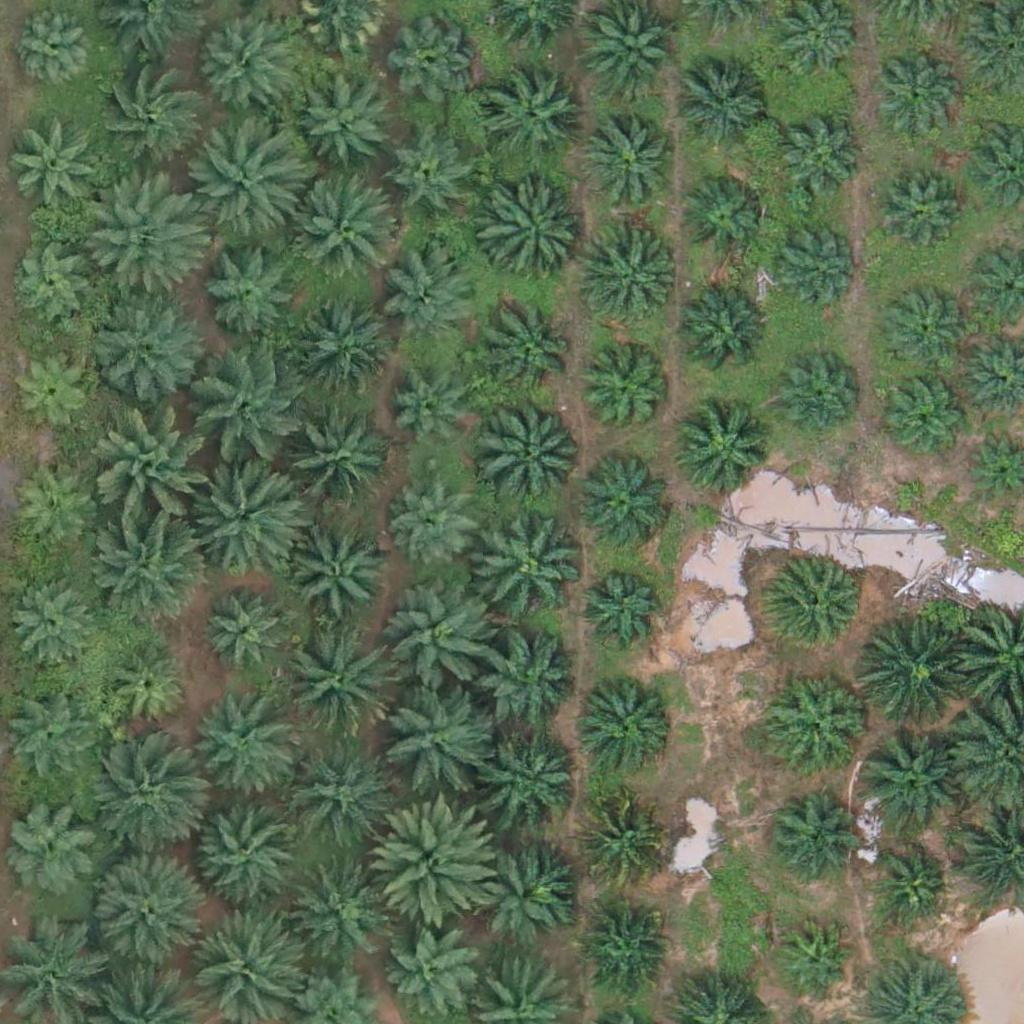Kelapa_Sawit: (375, 800, 500, 926), (377, 678, 490, 792), (278, 407, 391, 521), (279, 626, 392, 739), (283, 738, 396, 851), (190, 793, 303, 906), (87, 854, 200, 967), (856, 620, 969, 733), (471, 509, 584, 622), (195, 353, 308, 466), (94, 511, 207, 624), (384, 584, 497, 697), (477, 394, 589, 508), (194, 130, 306, 244), (100, 415, 212, 529), (183, 694, 295, 807), (85, 745, 197, 858), (291, 176, 403, 289), (190, 458, 302, 571), (87, 289, 199, 402), (87, 174, 199, 287), (91, 61, 203, 174), (857, 729, 957, 830), (577, 671, 677, 772), (484, 730, 584, 831), (287, 859, 387, 960), (675, 53, 775, 154), (671, 285, 771, 386), (672, 401, 772, 502), (581, 229, 681, 330), (481, 69, 581, 170), (481, 185, 581, 286), (290, 523, 390, 624), (296, 74, 396, 175), (195, 235, 295, 336), (6, 119, 106, 220), (768, 672, 868, 772), (479, 637, 579, 737), (469, 837, 569, 937), (2, 795, 102, 895), (766, 557, 866, 657), (574, 457, 674, 557), (483, 301, 583, 401), (384, 245, 484, 345), (291, 301, 391, 401), (190, 17, 290, 117), (8, 5, 96, 94), (765, 789, 853, 877), (576, 795, 664, 883), (102, 644, 190, 732), (774, 116, 862, 204), (767, 218, 855, 306), (869, 166, 957, 254), (583, 351, 671, 439), (575, 564, 663, 652), (202, 589, 290, 677), (5, 345, 93, 433), (10, 468, 98, 556), (2, 694, 89, 783), (579, 903, 666, 991), (387, 927, 474, 1015), (774, 353, 861, 441), (884, 370, 971, 458), (880, 285, 967, 373), (871, 49, 958, 137), (679, 171, 766, 259), (588, 115, 675, 203), (391, 17, 478, 105), (388, 134, 475, 222), (388, 378, 475, 466), (393, 483, 480, 571), (8, 243, 95, 331), (9, 577, 96, 665), (777, 920, 852, 996), (872, 846, 947, 921)
